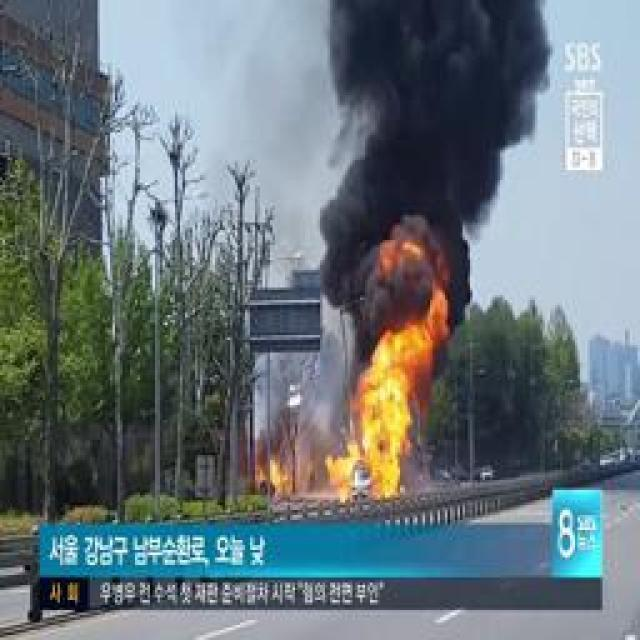Fire: (363, 332, 413, 502), (326, 446, 356, 498), (269, 462, 291, 490)
